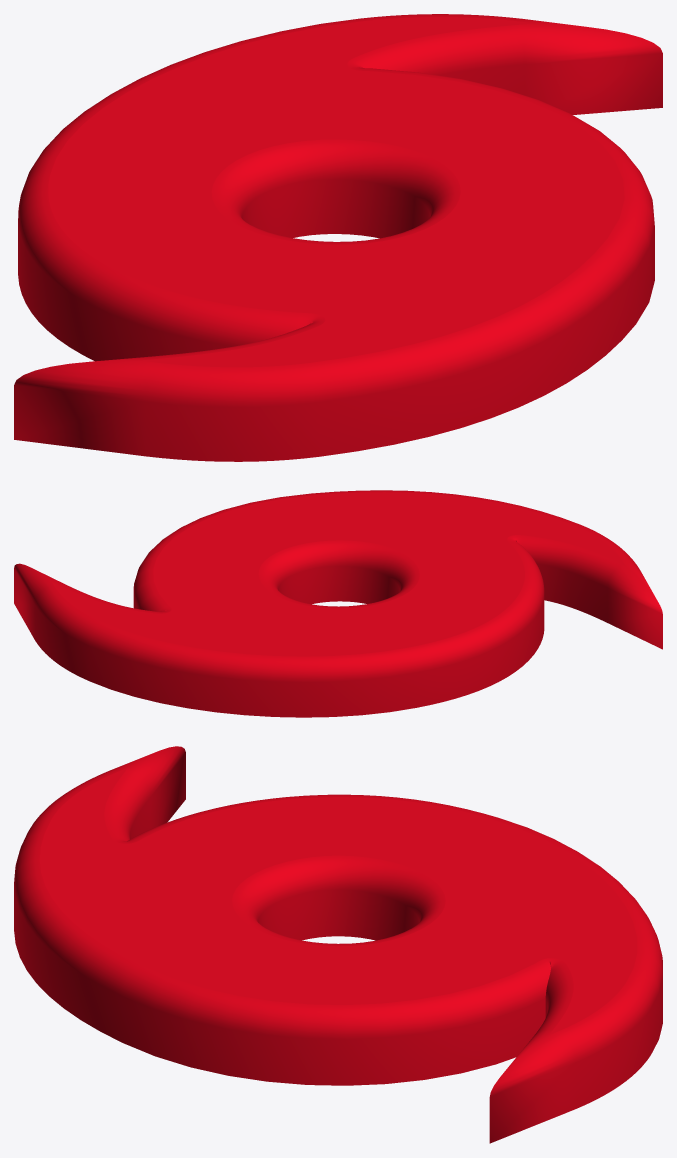
The model's file is hurricane_larger_animated_slow_1fps.glb.
3 views of the same model, one above another, from view 1: azimuth 30°, elevation 25°; view 2: azimuth 150°, elevation 25°; view 3: azimuth 270°, elevation 25° (orthographic). The views are drawn at different scales.
Visible parts, largest first — view 1: Curve; view 2: Curve; view 3: Curve.
Boxes of the visible parts, x1,y1,x2,y2 form: Curve: [14, 14, 662, 461]; Curve: [14, 490, 662, 717]; Curve: [14, 746, 662, 1143].
Size of the model in its own units: 159 by 15 by 126.
